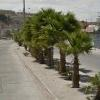Palm tree: (31, 6, 88, 81)
